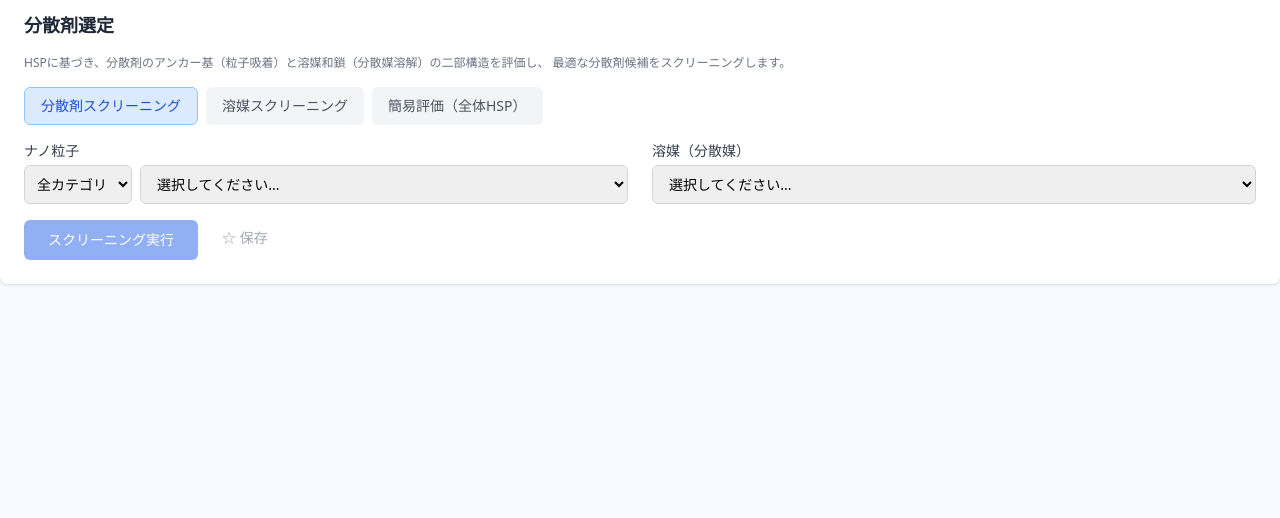
DispersantSelectionView › 簡易評価モードでフォールバック結果が表示される
Click the button "簡易評価（全体HSP）" at (457, 106), box [372,87,542,125]
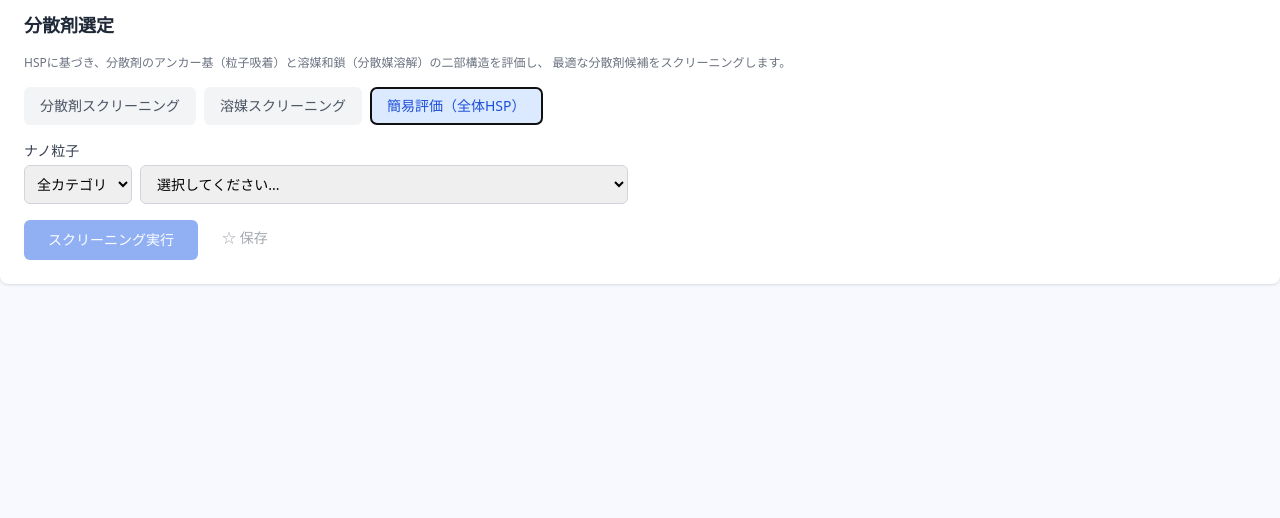
Select "カーボンブラック (Carbon Black)" in the 2nd dropdown at (384, 184), box [140,165,628,204]
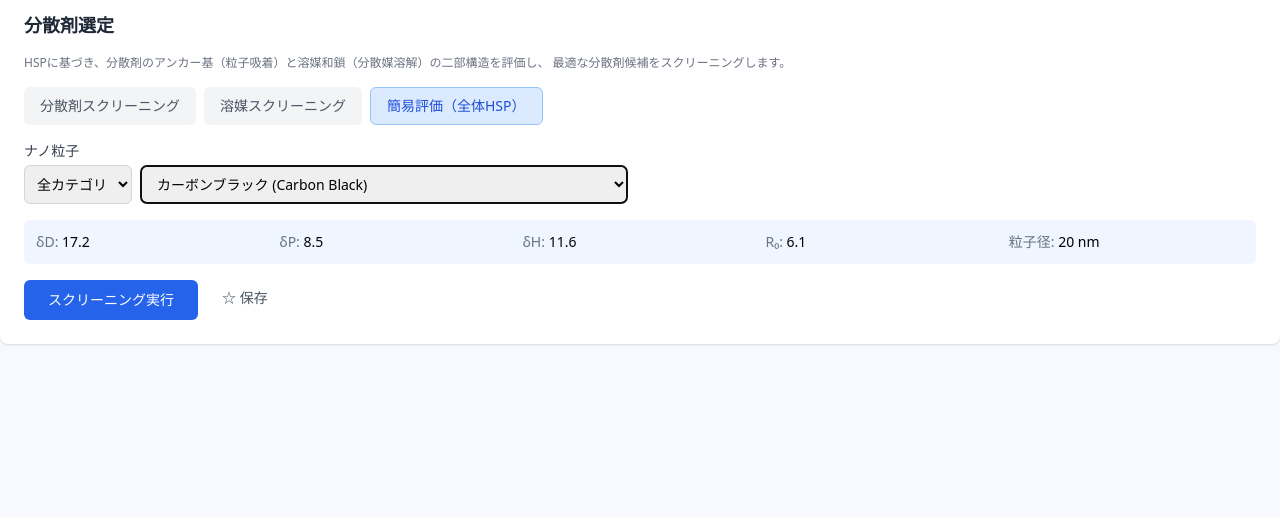
Click the button "スクリーニング実行" at (111, 300), box [24,280,198,320]
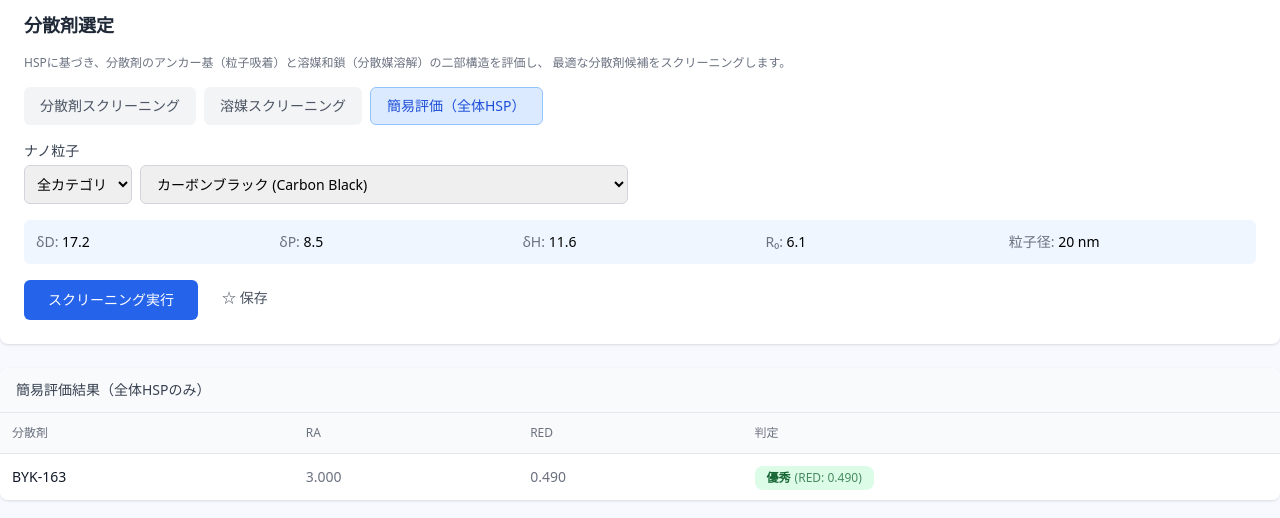
Expected: the heading "簡易評価結果（全体HSPのみ）" is shown, [16,380,210,399]
Expected: the text "BYK-163" is shown, [0,454,294,500]
